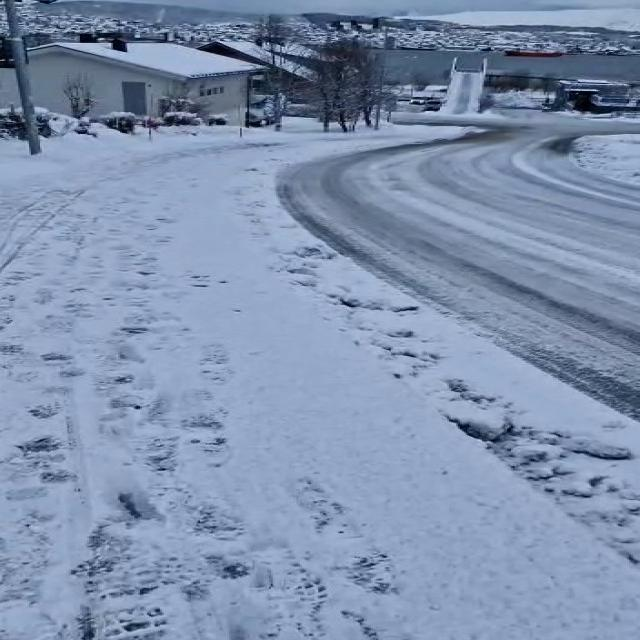path: (278, 112, 640, 414)
